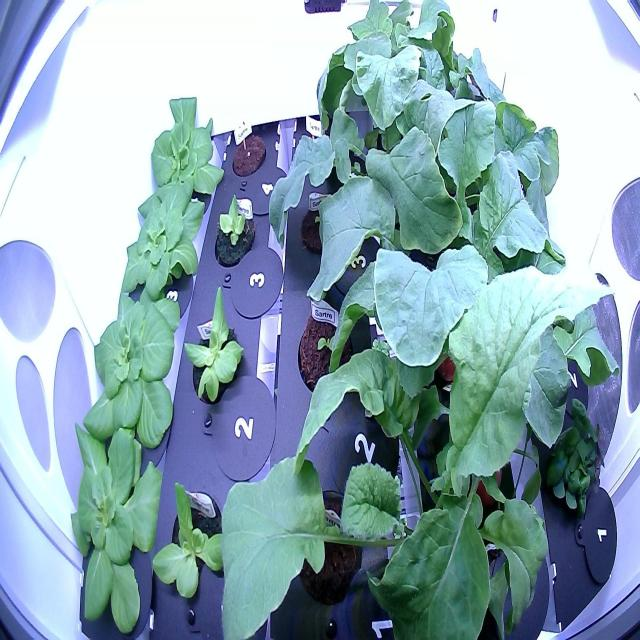germination: (294, 290, 356, 403)
pod: (228, 119, 270, 184)
young: (59, 416, 178, 640), (72, 274, 184, 462), (146, 466, 236, 621), (114, 166, 213, 299), (177, 282, 262, 420), (141, 82, 227, 215), (206, 182, 262, 278)
